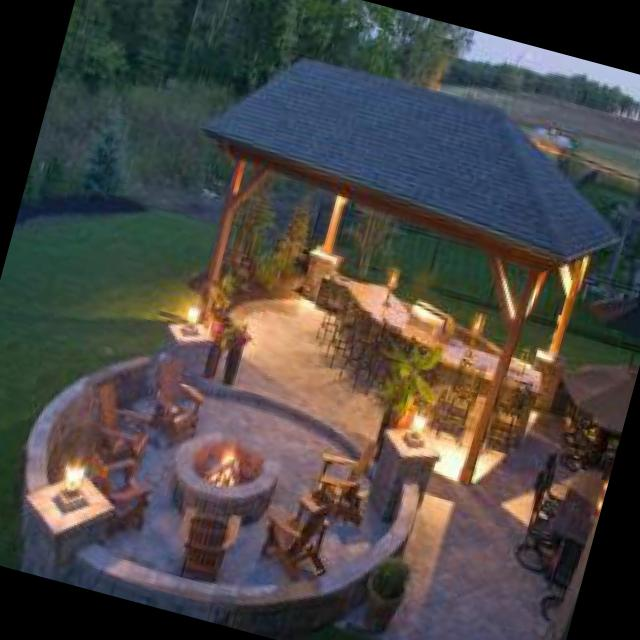fire: (196, 436, 254, 504)
